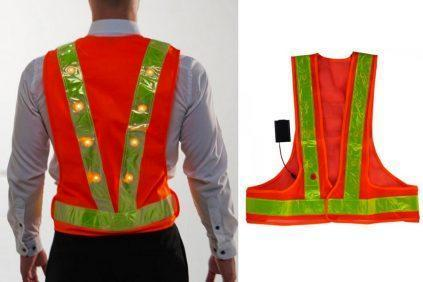vest: (245, 54, 420, 226), (42, 35, 182, 236)
